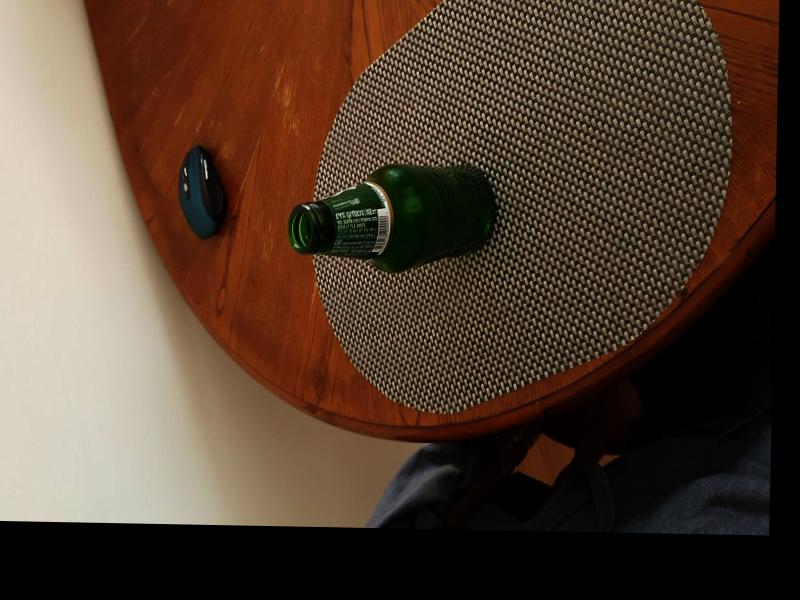Beer: (286, 157, 496, 278)
